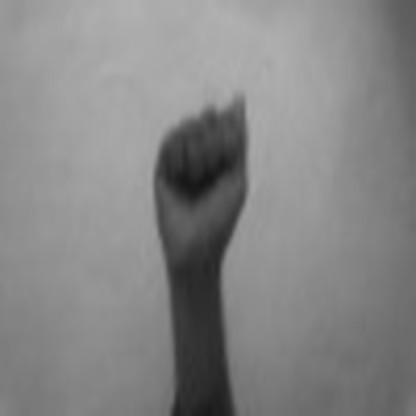a: (145, 83, 255, 275)
